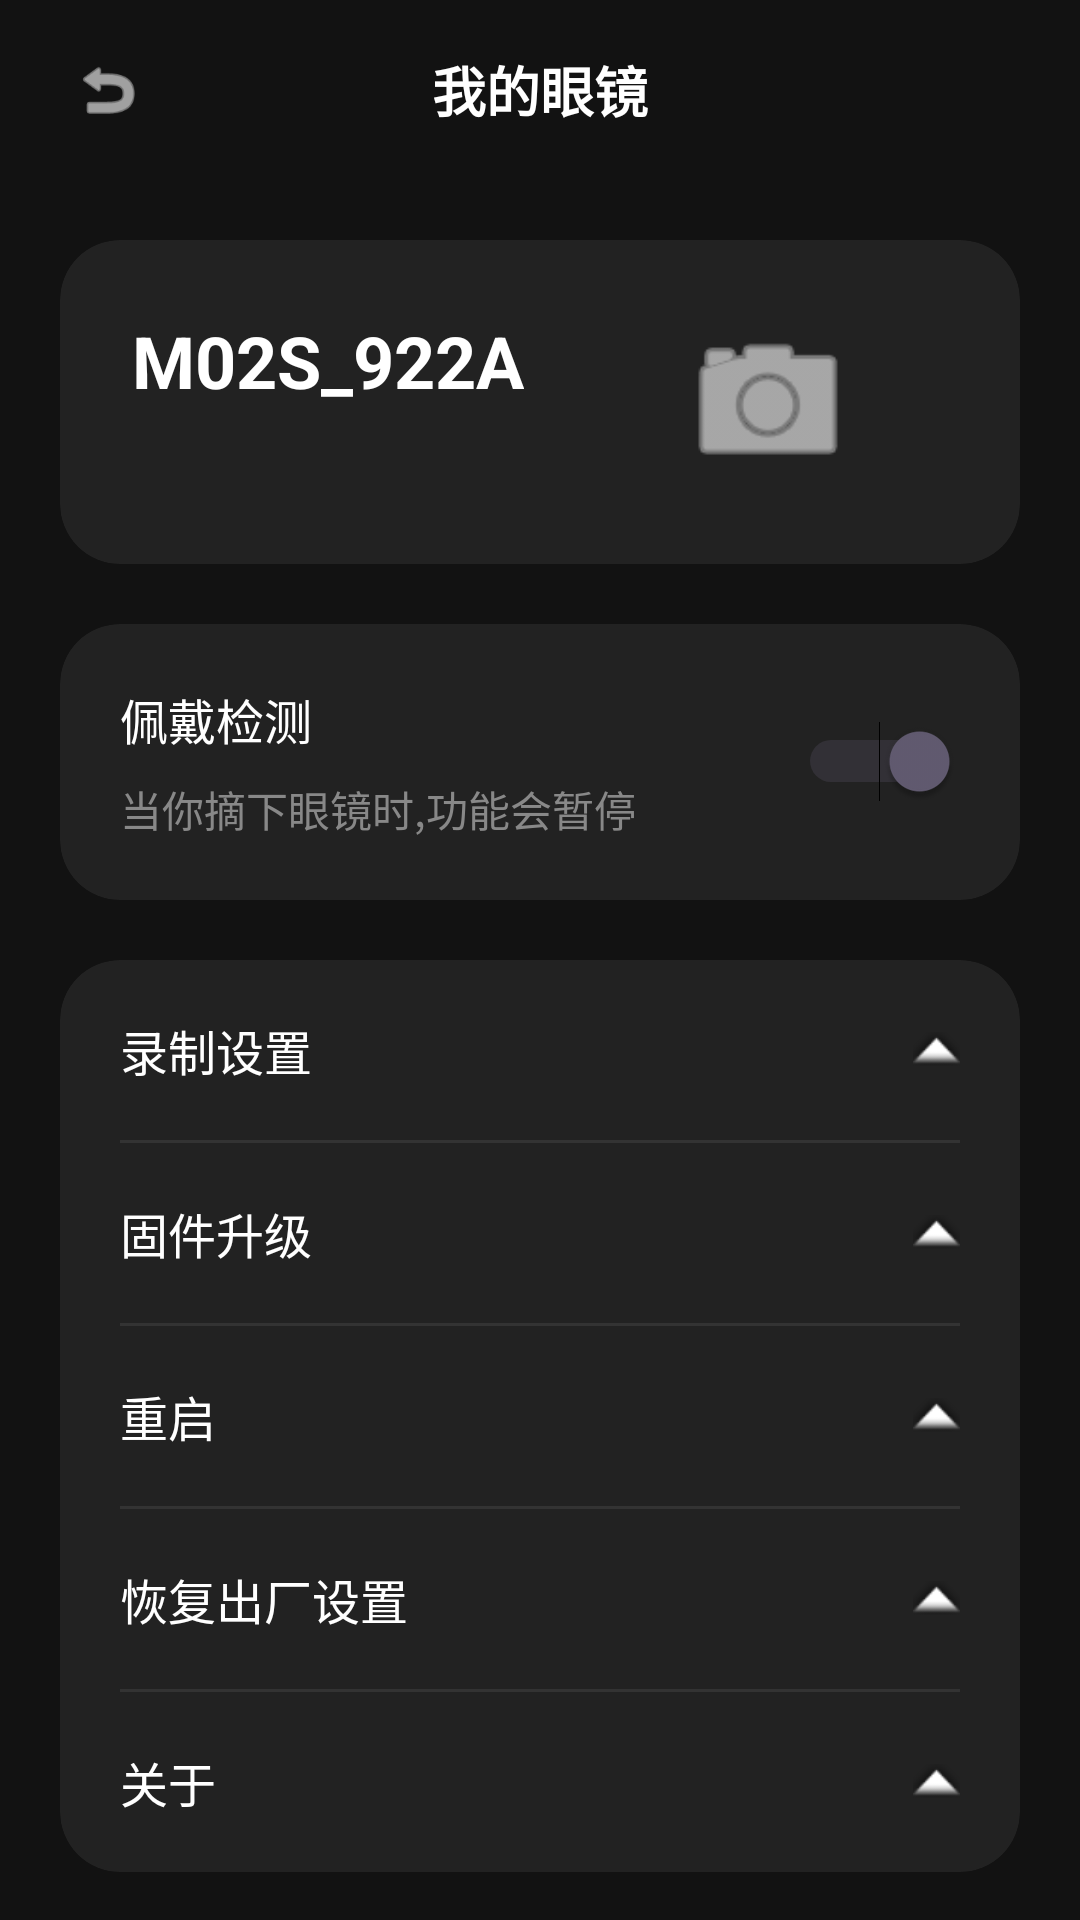

Point at icon controls on the screen. Image size 1080 × 1920, points as [x,y].
camera: [768,399]
revert: [109,90]
